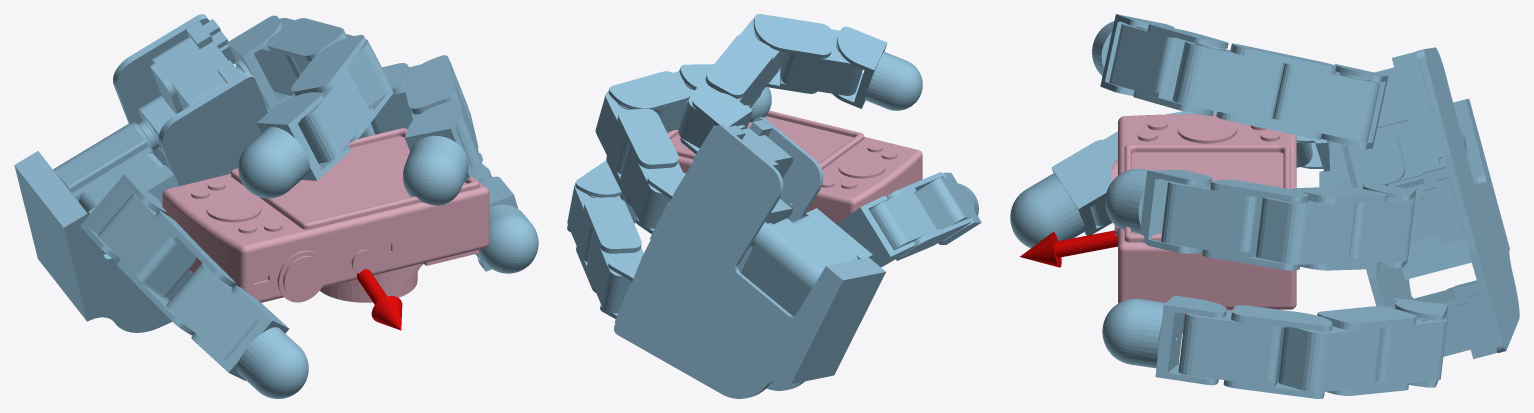
3 renders of one model, left to right at view 1: azimuth 30°, elevation 25°; view 2: azimuth 150°, elevation 25°; view 3: azimuth 270°, elevation 25°, orthographic. The views are drawn at different scales.
Visible parts, largest first — view 1: world, camera.stl; view 2: world, camera.stl; view 3: world, camera.stl.
Boxes of the visible parts, x1,y1,x2,y2 form: world: (14,14,538,398); camera.stl: (162,128,489,302); world: (567,14,981,398); camera.stl: (667,110,922,224); world: (1010,14,1519,398); camera.stl: (1111,114,1296,333).
Size of the model in its own units: 0.1788 by 0.1468 by 0.1843.
